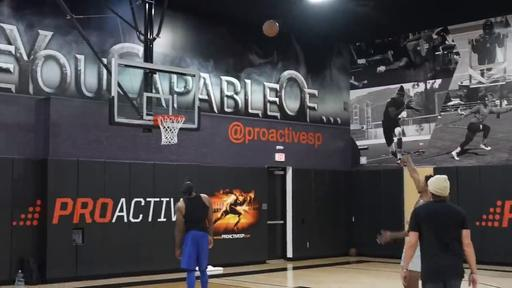ball: (262, 20, 278, 36)
human: (402, 175, 478, 288), (174, 177, 214, 287), (158, 114, 186, 145)
